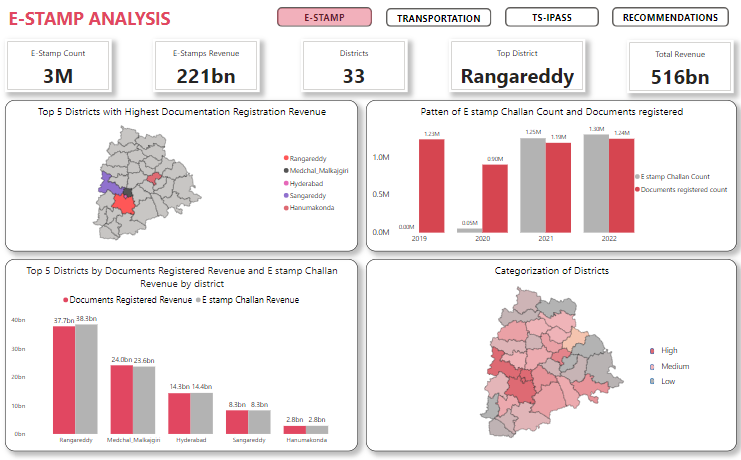

The dashboard page shown, as its layout file describes it:
{"tool":"powerbi","page":{"name":"E-STAMP","canvas":[1600,1000],"ordinal":1},"visuals":[{"type":"shape","box":[1395.6,745.7,9.2,13.4],"z":0,"group":"g1"},{"type":"textbox","box":[24.9,14.6,563.4,74.6],"z":0},{"type":"shape","box":[1395.6,779.2,9.2,13.4],"z":1000,"group":"g1"},{"type":"shapeMap","title":"Top 5 Districts with Highest Documentation Registration Revenue","fields":{"Series":["dim_districts.district"],"Value":["Key Measures.Total Documents registerd rev"],"Category":["dim_districts.district"]},"box":[24.4,220,751.1,322.2],"z":1000},{"type":"shape","box":[1395.6,811.1,9.2,13.4],"z":2000,"group":"g1"},{"type":"clusteredColumnChart","title":"Top 5 Districts by Documents Registered Revenue and E stamp Challan Revenue by district","fields":{"Category":["dim_districts.district"],"Y":["Key Measures.Total Documents registerd rev","Key Measures.Total E stamp Challan Rev"]},"box":[24.4,557.8,751.1,408.9],"z":2000},{"type":"textbox","box":[1415.1,735.6,129.6,33.6],"z":3000,"group":"g1"},{"type":"clusteredColumnChart","title":"Patten of  E stamp Challan Count and Documents registered ","fields":{"Category":["dim_date.month.Variation.Date Hierarchy.Year"],"Y":["Key Measures.Total E stamp Challan Count","Key Measures.Total Doc registered count"]},"box":[791.1,220,788.9,322.2],"z":3000},{"type":"textbox","box":[1415.1,769.2,129.6,33.6],"z":4000,"group":"g1"},{"type":"shapeMap","title":"Categorization of Districts","fields":{"Category":["dim_districts.district"],"Value":["Key Measures.Total E stamp Challan Rev"]},"box":[791.1,557.8,788.9,408.9],"z":4000},{"type":"textbox","box":[1415.1,801,129.6,33.6],"z":5000,"group":"g1"},{"type":"group","id":"g1","title":"Group 1","box":[1395.6,735.6,148.9,100],"z":5000},{"type":"cardVisual","fields":{"Data":["Key Measures.Total E stamp Challan Count"]},"box":[23.3,90,226.7,113.3],"z":6000},{"type":"cardVisual","fields":{"Data":["Key Measures.Total E stamp Challan Rev"]},"box":[338.3,90,226.7,113.3],"z":7000},{"type":"cardVisual","fields":{"Data":["Min(dim_districts.district)"]},"box":[968.3,90,290,113.3],"z":8000},{"type":"cardVisual","fields":{"Data":["Count(dim_districts.district)"]},"box":[653.3,90,226.7,113.3],"z":9000},{"type":"cardVisual","fields":{"Data":["Key Measures.Total Revenue"]},"box":[1346.7,91.1,226.7,113.3],"z":10000},{"type":"actionButton","box":[602.2,22.2,202.2,42.2],"z":11000},{"type":"actionButton","box":[833.3,24.4,224.4,40],"z":12000},{"type":"actionButton","box":[1086.7,22.2,200,42.2],"z":13000},{"type":"actionButton","box":[1315.6,22.2,248.9,42.2],"z":14000},{"type":"shape","box":[602.2,24.4,202.2,37.8],"z":15000}]}

Visuals, with their boxes in screenshot pixels (x1, y1, x2, y2), scaled from the page's 1600x1000 canvas onto the 741x460 screenshot:
shape: (x1=646, y1=343, x2=651, y2=349)
textbox: (x1=12, y1=7, x2=272, y2=41)
shape: (x1=646, y1=358, x2=651, y2=365)
"Top 5 Districts with Highest Documentation Registration Revenue" shapeMap: (x1=11, y1=101, x2=359, y2=249)
shape: (x1=646, y1=373, x2=651, y2=379)
"Top 5 Districts by Documents Registered Revenue and E stamp Challan Revenue by district" clusteredColumnChart: (x1=11, y1=257, x2=359, y2=445)
textbox: (x1=655, y1=338, x2=715, y2=354)
"Patten of  E stamp Challan Count and Documents registered " clusteredColumnChart: (x1=366, y1=101, x2=732, y2=249)
textbox: (x1=655, y1=354, x2=715, y2=369)
"Categorization of Districts" shapeMap: (x1=366, y1=257, x2=732, y2=445)
textbox: (x1=655, y1=368, x2=715, y2=384)
"Group 1" group: (x1=646, y1=338, x2=715, y2=384)
cardVisual - Key Measures.Total E stamp Challan Count: (x1=11, y1=41, x2=116, y2=94)
cardVisual - Key Measures.Total E stamp Challan Rev: (x1=157, y1=41, x2=262, y2=94)
cardVisual - Min(dim_districts.district): (x1=448, y1=41, x2=583, y2=94)
cardVisual - Count(dim_districts.district): (x1=303, y1=41, x2=408, y2=94)
cardVisual - Key Measures.Total Revenue: (x1=624, y1=42, x2=729, y2=94)
actionButton: (x1=279, y1=10, x2=373, y2=30)
actionButton: (x1=386, y1=11, x2=490, y2=30)
actionButton: (x1=503, y1=10, x2=596, y2=30)
actionButton: (x1=609, y1=10, x2=725, y2=30)
shape: (x1=279, y1=11, x2=373, y2=29)
